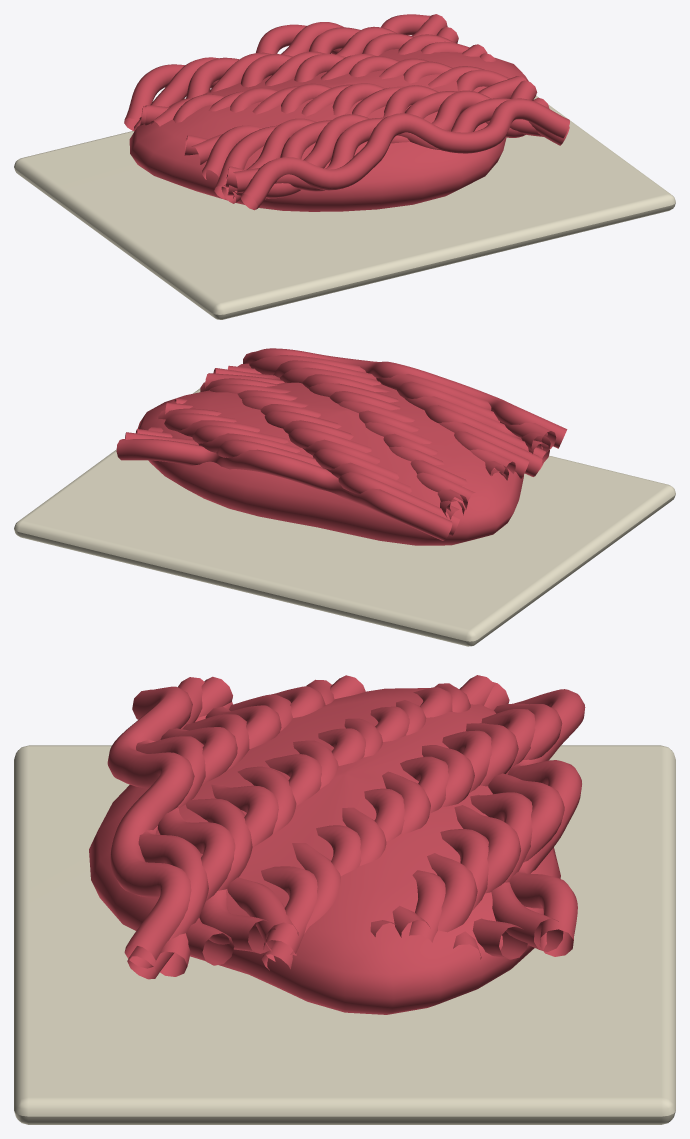
Rendered from ground-beef.glb.
The picture shows the model from 3 angles, top to bottom: view 1: azimuth 30°, elevation 25°; view 2: azimuth 150°, elevation 25°; view 3: azimuth 270°, elevation 25°; orthographic projection. The views are drawn at different scales.
Parts seen in each view (by area): view 1: ground-beef_mesh; view 2: ground-beef_mesh; view 3: ground-beef_mesh.
Part boxes in pixels (x1,y1,x2,y2): ground-beef_mesh: (14, 14, 675, 319); ground-beef_mesh: (14, 348, 675, 646); ground-beef_mesh: (14, 675, 675, 1124).
Bounding box in the file's own units: 0.295 × 0.0708 × 0.2275.
